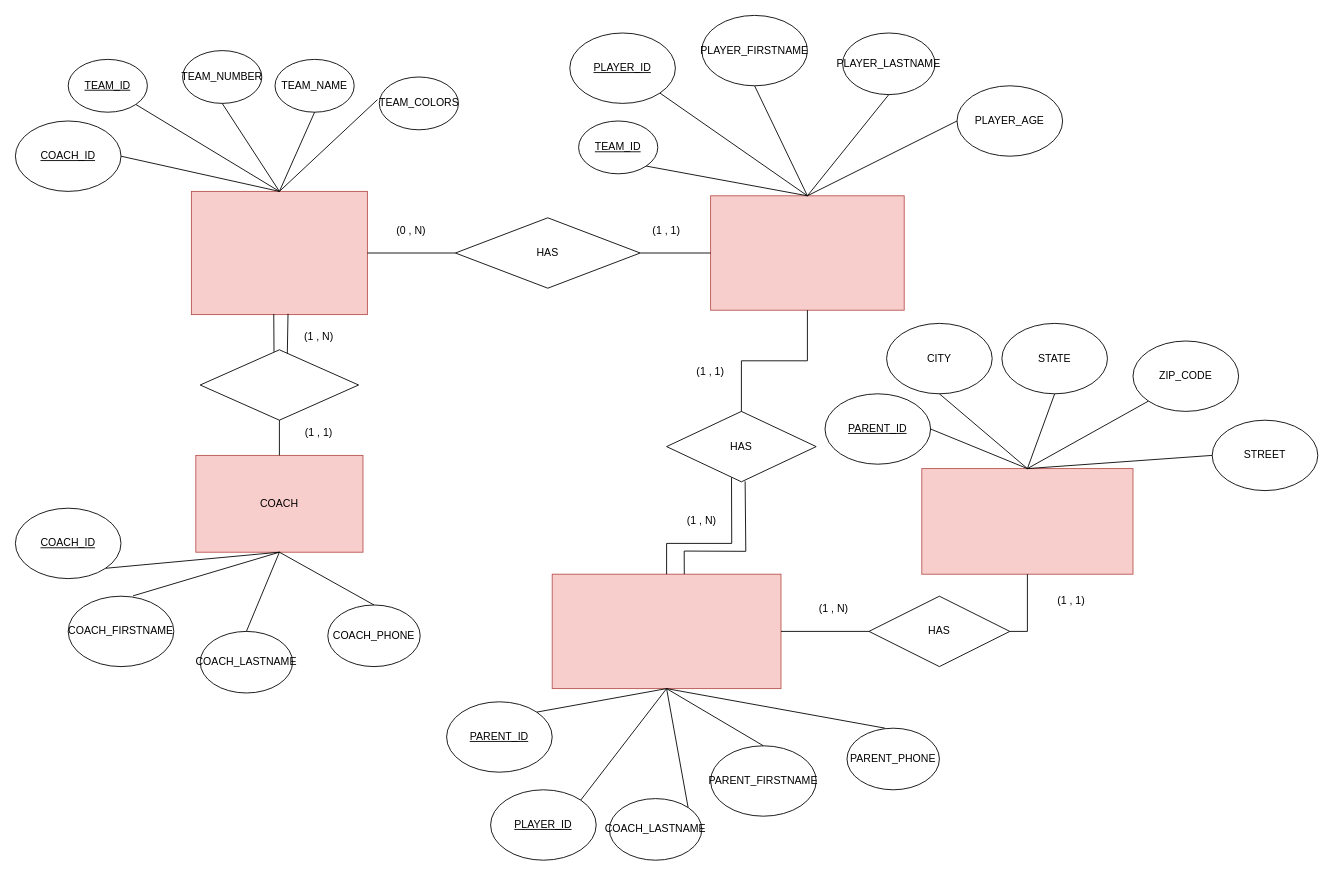
The diagram is 1333 pixels wide and 876 high, and some of its shapes have lost their labels. The shapes that lost their labels are listed below. From the top down, each one's centre as x and y in pixels, then its label:
(x=279, y=253): TEAM
(x=807, y=252): PLAYER
(x=279, y=384): JOIN
(x=1027, y=521): HOME_ADDRESS
(x=666, y=631): PARENT
